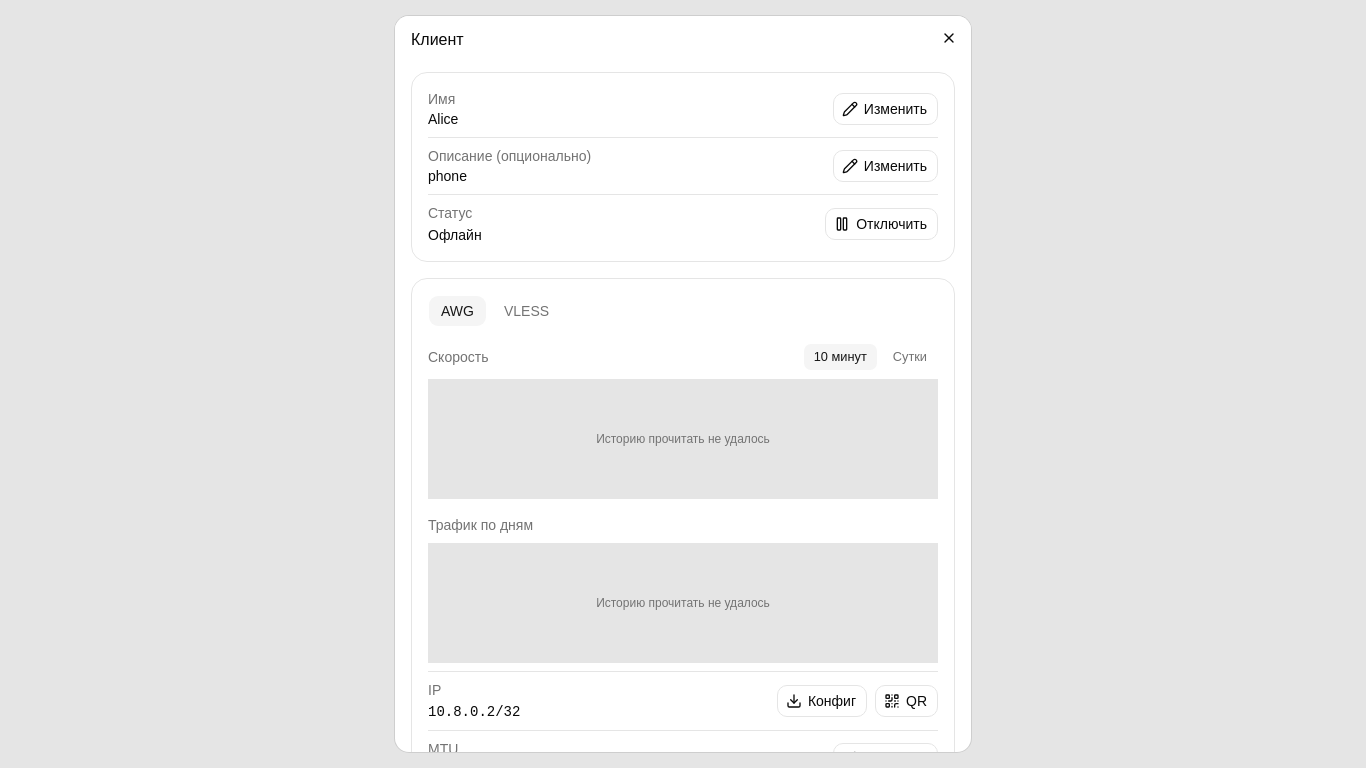
ClientInfoDialog: вкладки протоколов › VLESS не настроен — так и сказано, без пустого трафика
Click the tab "VLESS" at (526, 311), box [491,295,562,327]
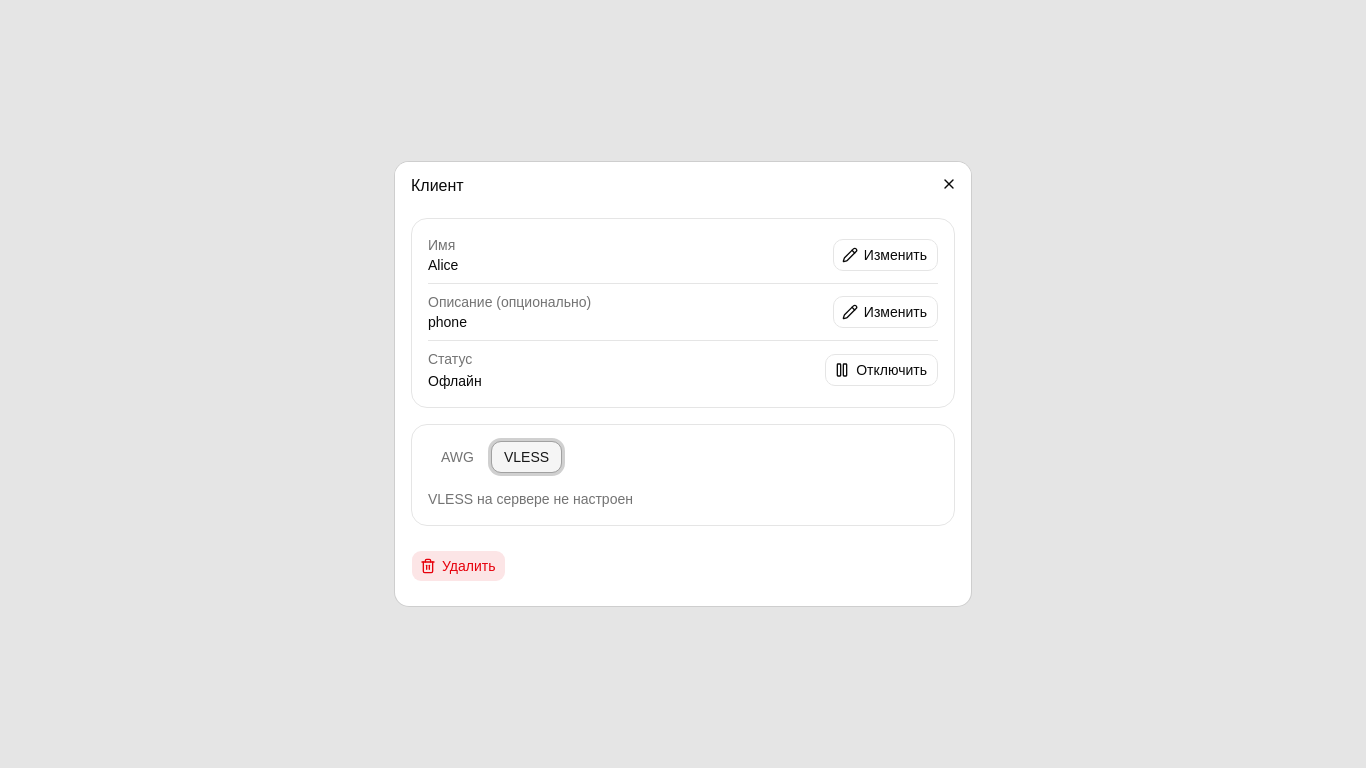
Now the text "VLESS на сервере не настроен" is shown, box [428,491,633,507]
Now the text "Трафик" is gone
